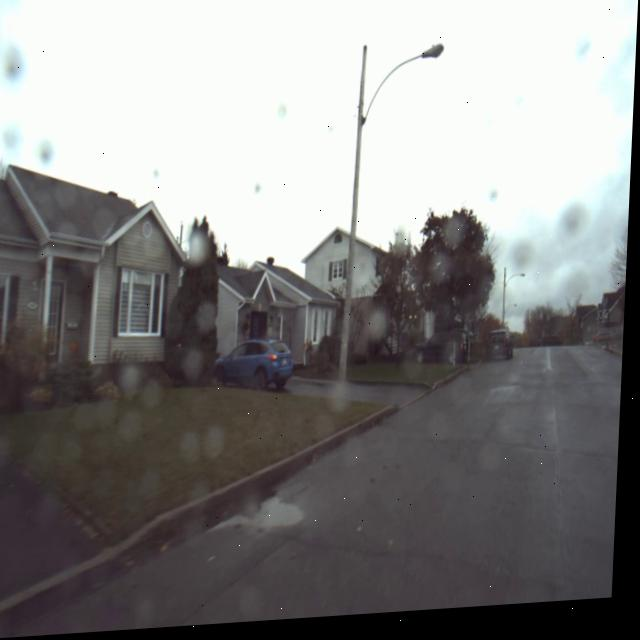car: (206, 334, 299, 406)
